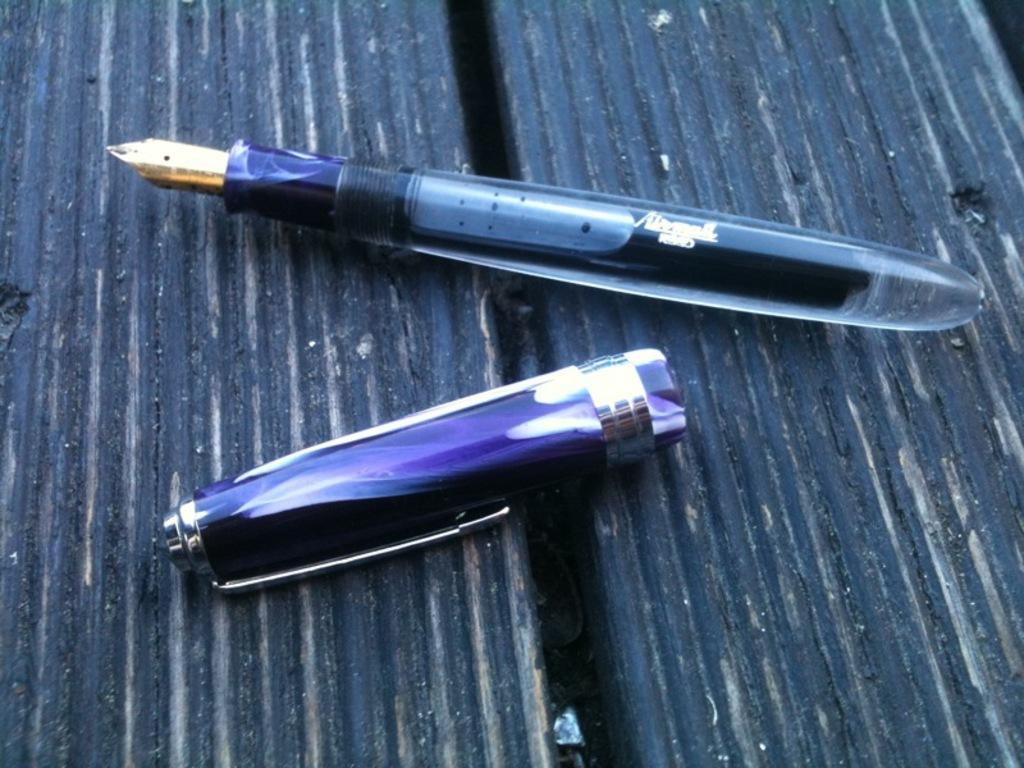pen: (99, 141, 983, 332)
